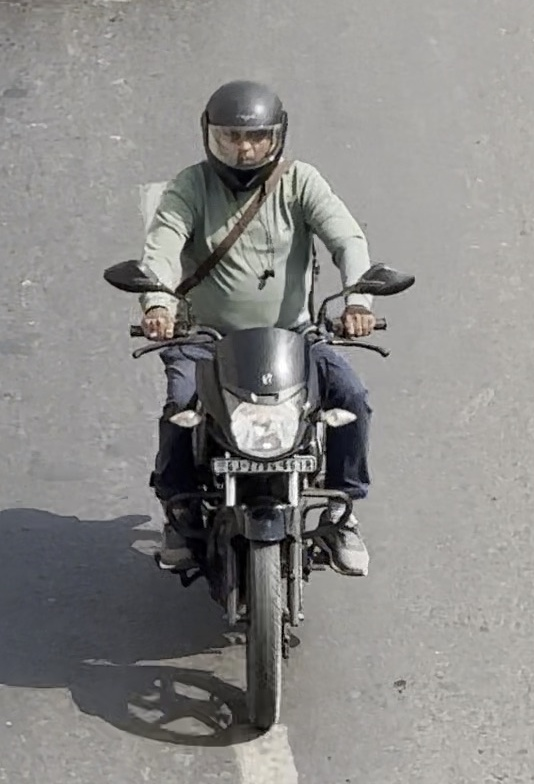BikeWithRider: (98, 76, 418, 734)
Helmet: (197, 80, 294, 195)
